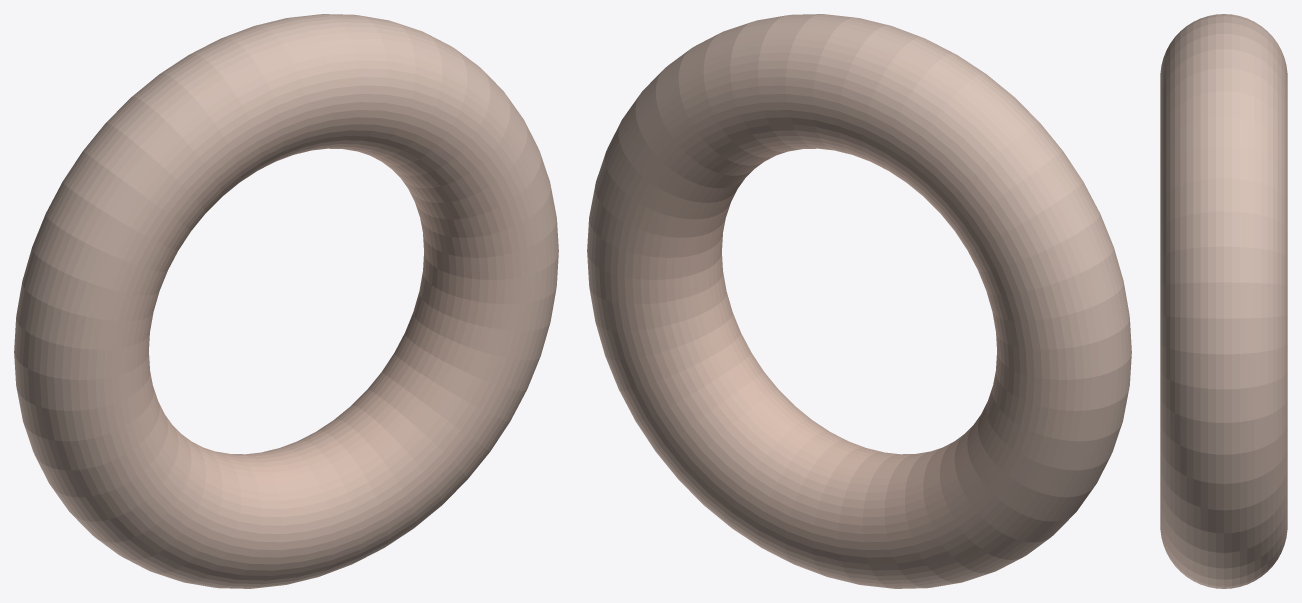
3 renders of one model, left to right at view 1: azimuth 30°, elevation 25°; view 2: azimuth 150°, elevation 25°; view 3: azimuth 270°, elevation 25°, orthographic. The views are drawn at different scales.
Visible parts, largest first — view 1: world; view 2: world; view 3: world.
Part boxes in pixels (x1=…): world: x1=14, y1=14, x2=558, y2=588; world: x1=587, y1=14, x2=1131, y2=588; world: x1=1160, y1=14, x2=1287, y2=588.
Size of the model in its own units: 28.27 by 28.21 by 6.25.
